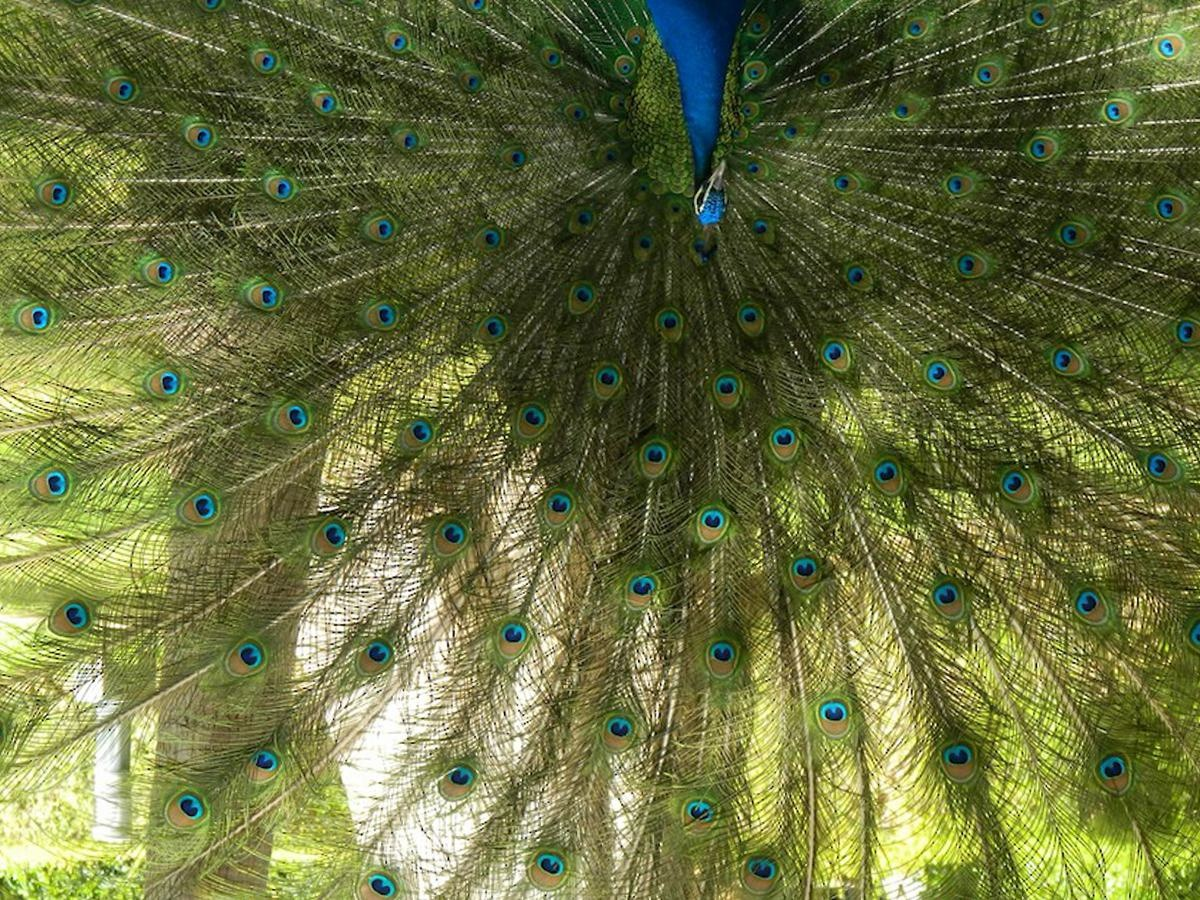peacock: (15, 1, 1184, 753)
